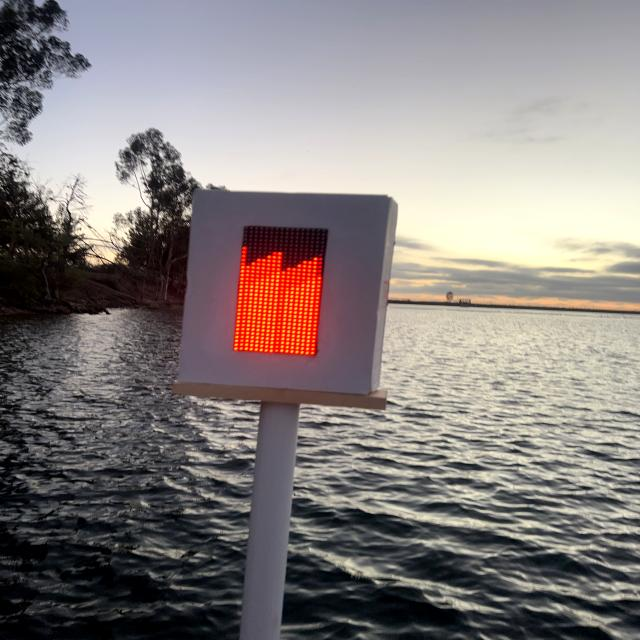led: (200, 198, 364, 384)
